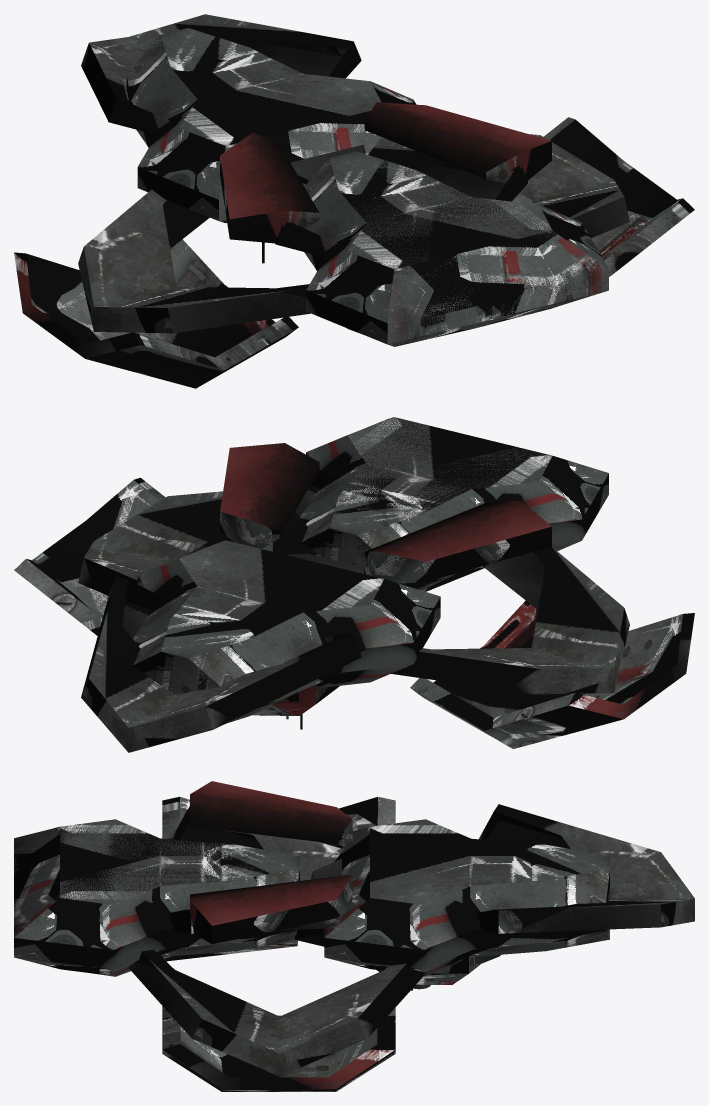
File: TypeWI.fbx
3 renders of one model, top to bottom at view 1: azimuth 30°, elevation 25°; view 2: azimuth 150°, elevation 25°; view 3: azimuth 270°, elevation 25°, orthographic. The views are drawn at different scales.
Visible parts, largest first — view 1: TypeWI; view 2: TypeWI; view 3: TypeWI.
Part boxes in pixels (x1,y1,x2,y2): TypeWI: (14, 14, 694, 388); TypeWI: (14, 417, 694, 752); TypeWI: (14, 781, 694, 1091).
Size of the model in its own units: 117 by 32.11 by 124.
Materials: 1 (1 with a texture image).
